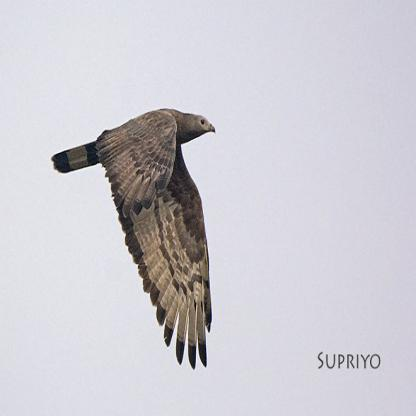Burung: (50, 102, 221, 369)
